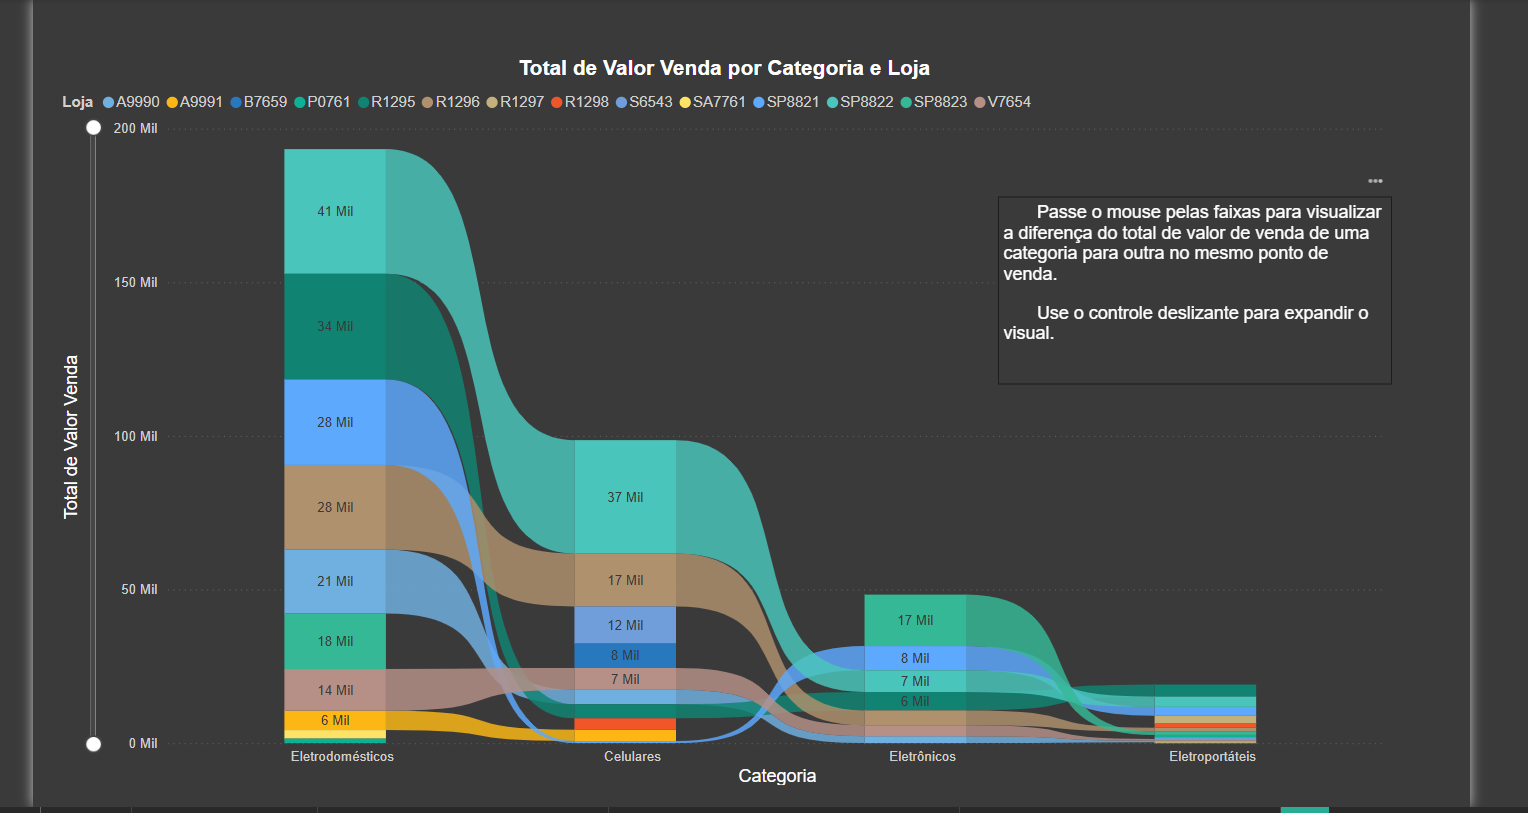

Layout of this report page (visuals, bound fields, positions):
{"tool":"powerbi","page":{"name":"Faixas de Vendas Por Categoria e Pontos de Vendas","canvas":[1280,720],"ordinal":3},"visuals":[{"type":"ribbonChart","fields":{"Category":["Vendas.Categoria"],"Series":["Vendas.Loja"],"Y":["Sum(Vendas.ValorVenda)"]},"box":[20.9,51.5,1189,654],"z":0},{"type":"textbox","box":[858.9,175.5,350.9,168.1],"z":1000}]}

Visuals, with their boxes on the page's 1280x720 design canvas (x1, y1, x2, y2). These are canvas units, not pixel positions in the 1528x813 screenshot, which may show the page scaled, cropped or inside an application window:
ribbonChart - Vendas.Categoria x Vendas.Loja: (21,52,1210,706)
textbox: (859,176,1210,344)
